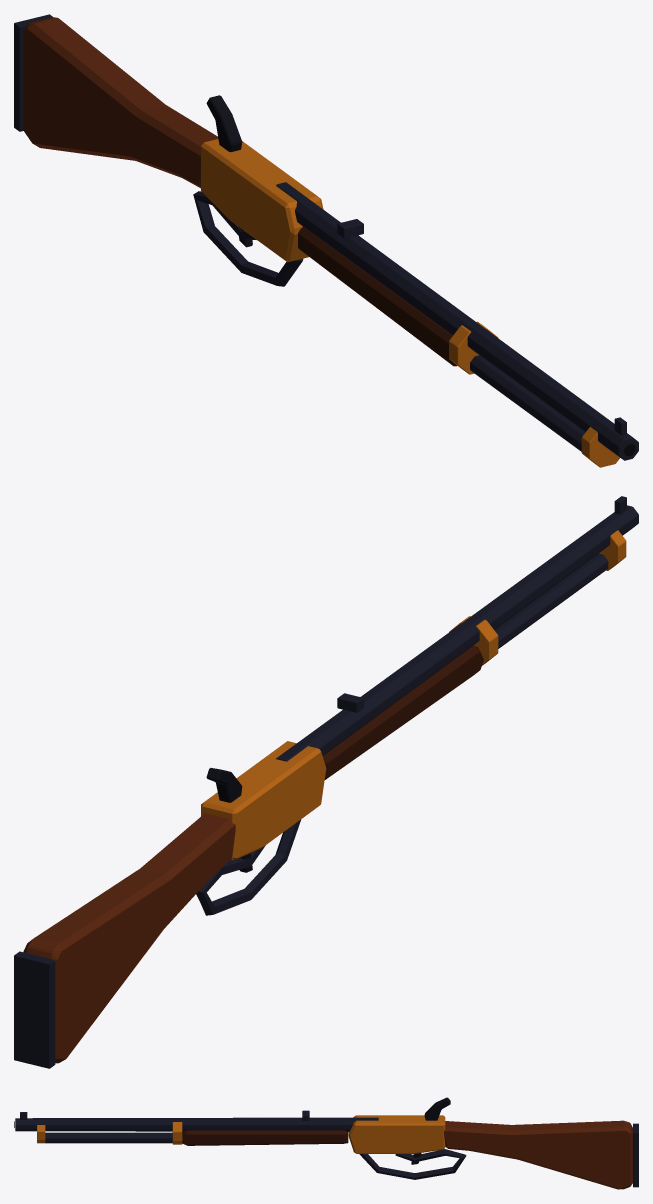
Rendered from myw_leverrifle.obj.
The picture shows the model from 3 angles, top to bottom: view 1: azimuth 30°, elevation 25°; view 2: azimuth 150°, elevation 25°; view 3: azimuth 270°, elevation 25°; orthographic projection. The views are drawn at different scales.
Visible parts, largest first — view 1: Stock, Barrel, Receiver, Lever, Hammer; view 2: Stock, Barrel, Receiver, Lever, Hammer; view 3: Stock, Barrel, Receiver, Lever, Hammer.
Part boxes in pixels (<box>): Stock: <box>23,17,457,366</box>; Barrel: <box>14,14,638,467</box>; Receiver: <box>201,139,323,262</box>; Lever: <box>193,191,303,286</box>; Hammer: <box>206,95,242,151</box>; Stock: <box>23,646,483,1063</box>; Barrel: <box>14,496,638,1068</box>; Receiver: <box>201,741,326,860</box>; Lever: <box>196,819,301,915</box>; Hammer: <box>206,768,242,802</box>; Stock: <box>182,1120,632,1189</box>; Barrel: <box>14,1110,638,1187</box>; Receiver: <box>348,1115,445,1153</box>; Lever: <box>359,1149,466,1179</box>; Hammer: <box>424,1097,450,1120</box>.
Size of the model in its own units: 0.2033 by 0.7995 by 5.16.
